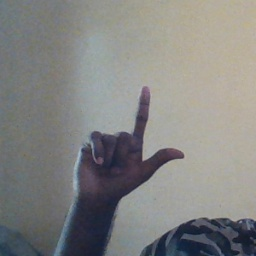L: (72, 86, 187, 200)
